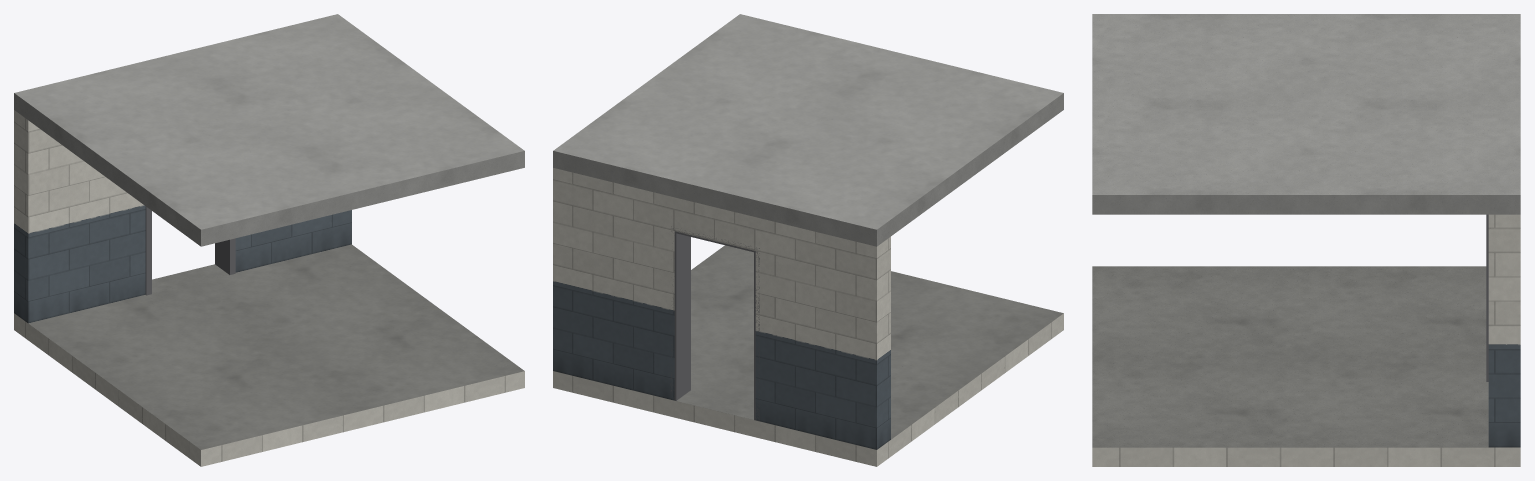
The model's file is Room_Basement_Door_NoLight.glb.
3 views of the same model, side by side, from view 1: azimuth 30°, elevation 25°; view 2: azimuth 150°, elevation 25°; view 3: azimuth 270°, elevation 25° (orthographic). The views are drawn at different scales.
Visible parts, largest first — view 1: Room_Basement_Door_NoLight, Room_Basement_Door_NoLight_Ceiling; view 2: Room_Basement_Door_NoLight, Room_Basement_Door_NoLight_Ceiling; view 3: Room_Basement_Door_NoLight, Room_Basement_Door_NoLight_Ceiling.
Boxes of the visible parts, x1,y1,x2,y2 form: Room_Basement_Door_NoLight: (14,110,524,466); Room_Basement_Door_NoLight_Ceiling: (14,14,524,246); Room_Basement_Door_NoLight: (553,168,1063,466); Room_Basement_Door_NoLight_Ceiling: (553,14,1063,246); Room_Basement_Door_NoLight: (1092,214,1520,466); Room_Basement_Door_NoLight_Ceiling: (1092,14,1520,214).
Size of the model in its own units: 4 by 2.8 by 4.
4 materials, 3 textured.
